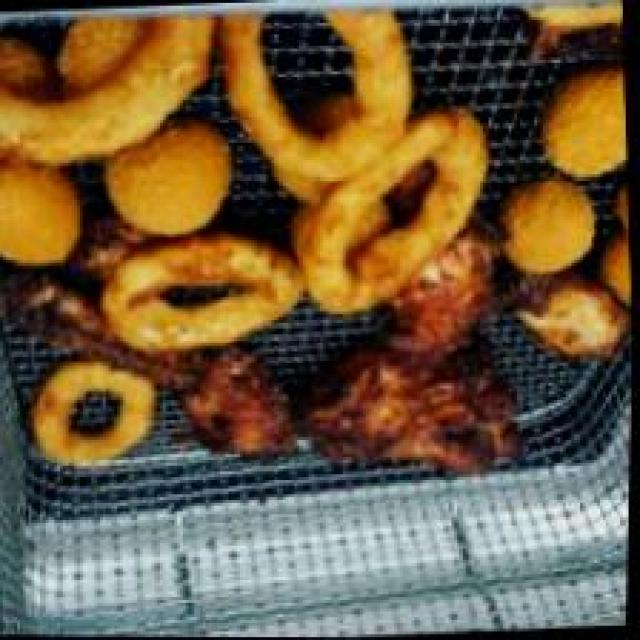Chicken Wings: (166, 339, 531, 490)
Onion Rings: (0, 0, 477, 369), (18, 351, 175, 483)
